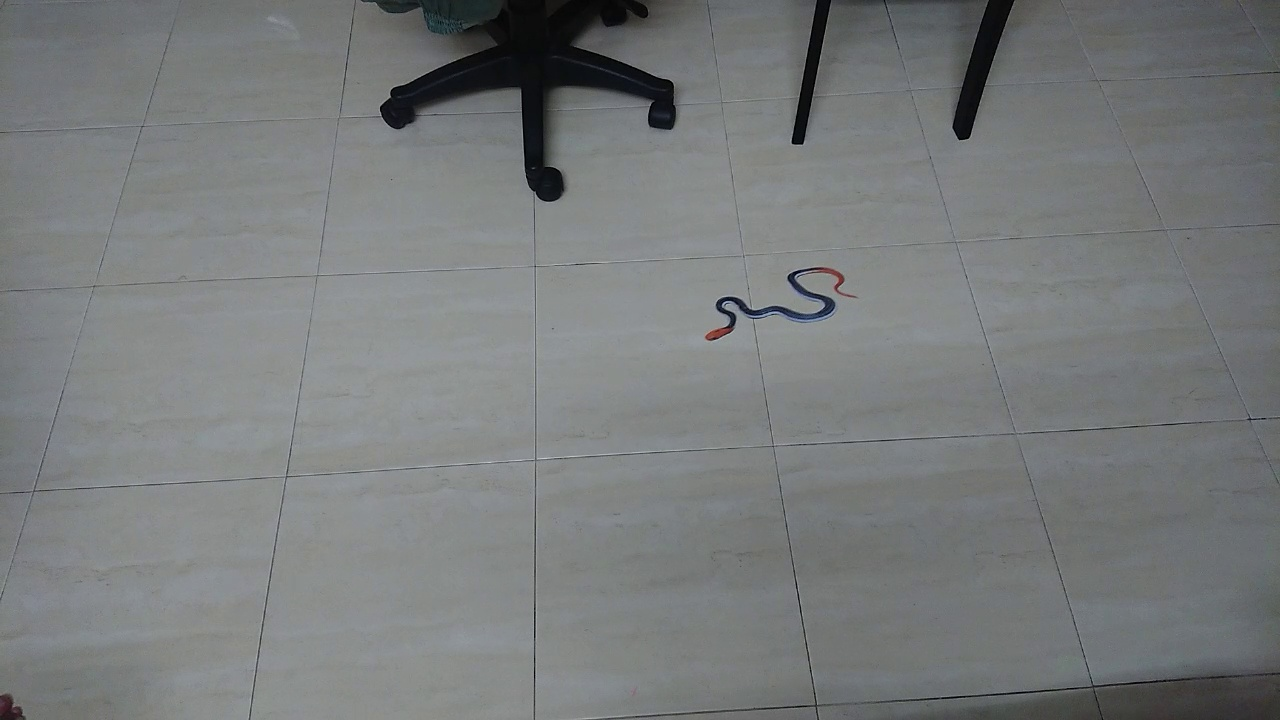snake: (698, 253, 868, 355)
